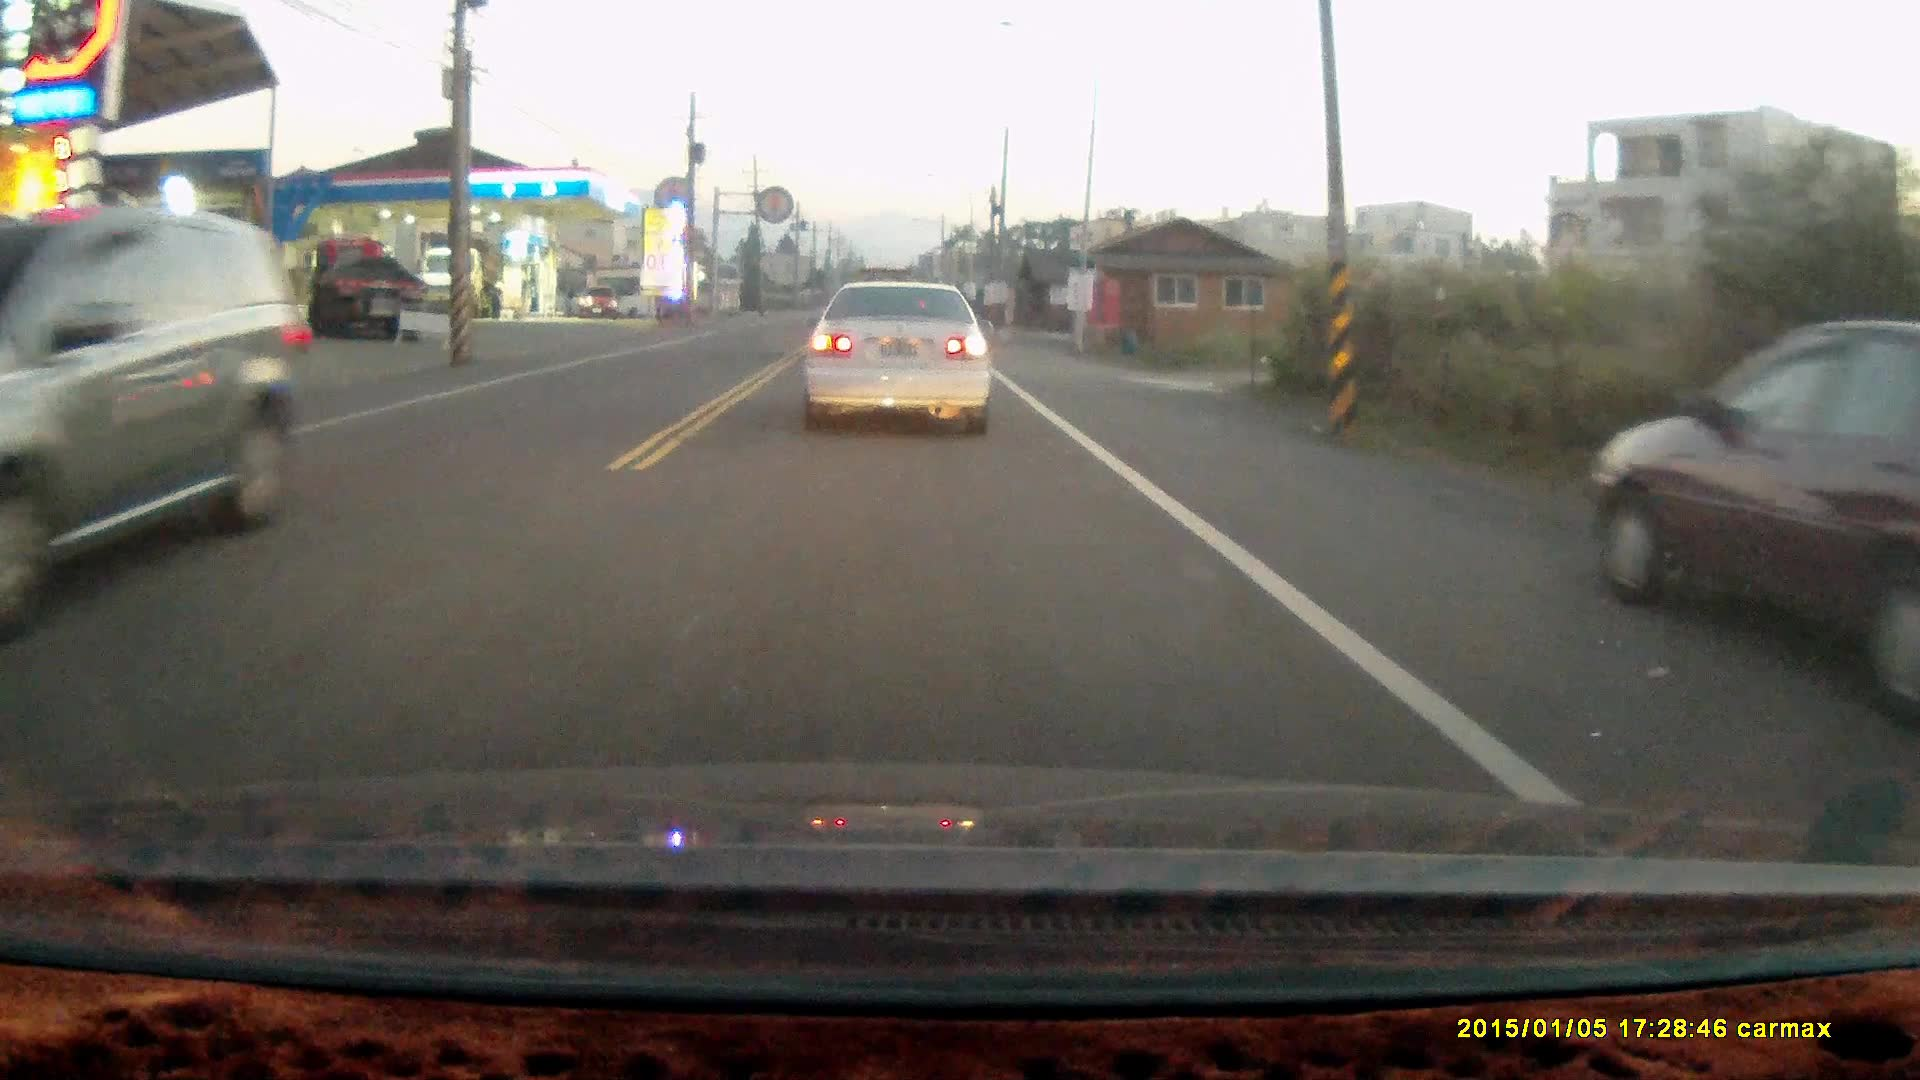pedestrian: (487, 275, 507, 318)
vehicle: (1590, 318, 1920, 725), (1, 211, 303, 613), (796, 280, 995, 440), (303, 231, 429, 340), (411, 236, 494, 320), (579, 287, 621, 321)
